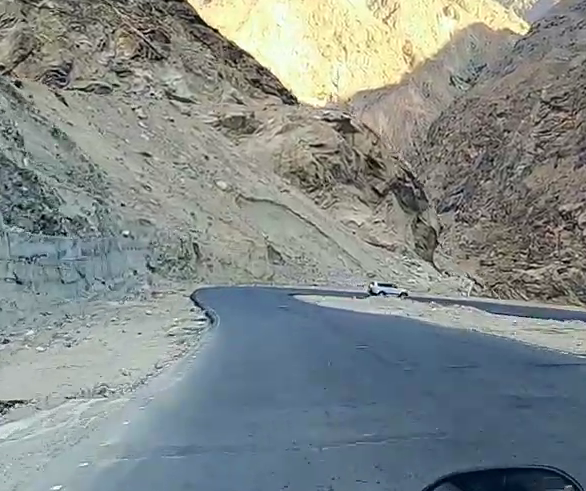stright: (190, 266, 401, 399)
